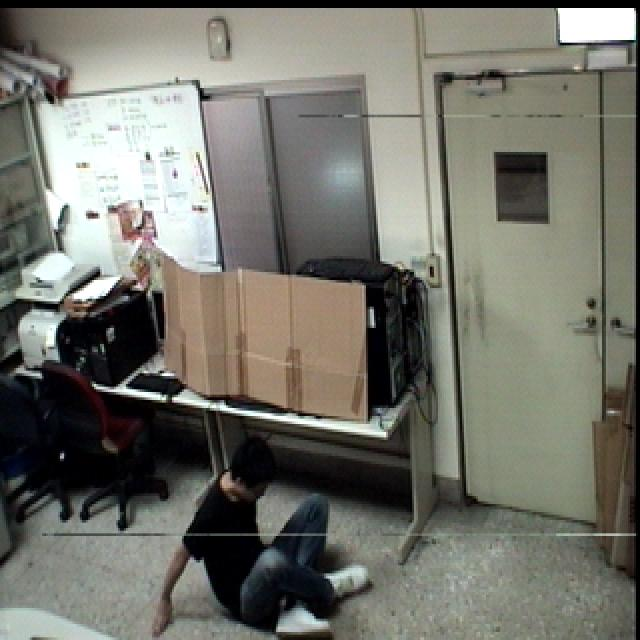sit: (144, 429, 376, 640)
